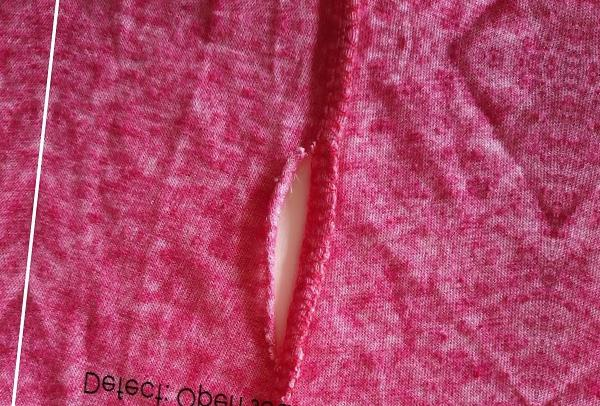hole: (258, 139, 332, 364)
